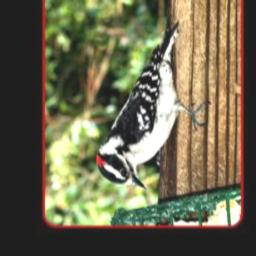Woodpecker: (95, 24, 214, 190)
